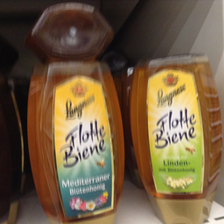honey: (16, 62, 131, 223), (133, 56, 223, 224)
